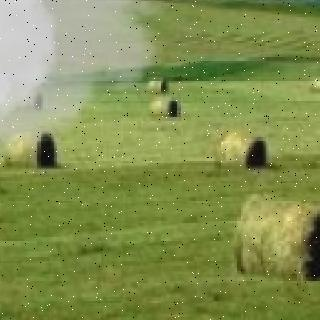smoke: (0, 0, 54, 173)
